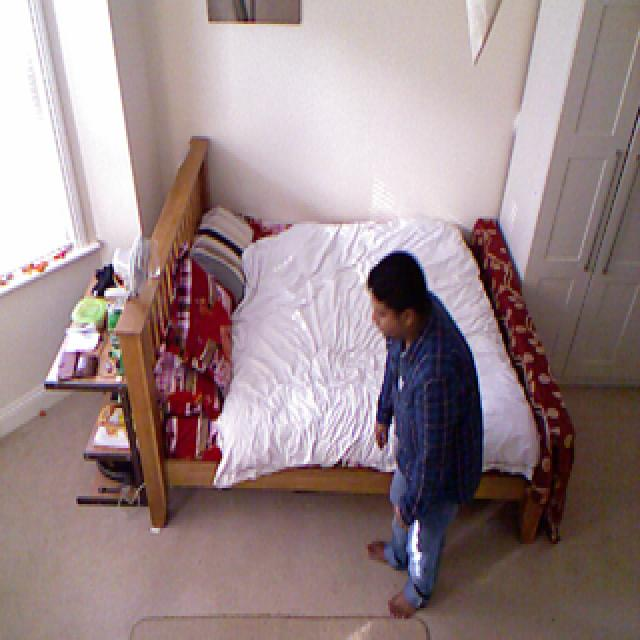standing: (358, 236, 487, 623)
